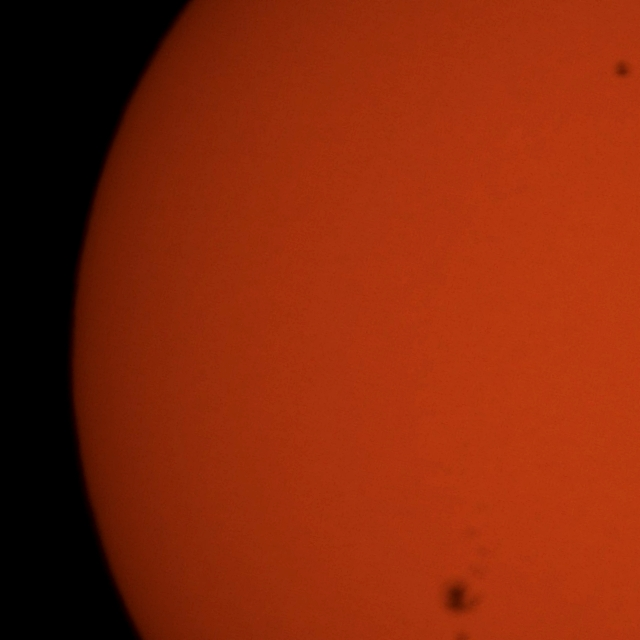sunspot: (436, 531, 503, 640), (608, 55, 634, 81)
